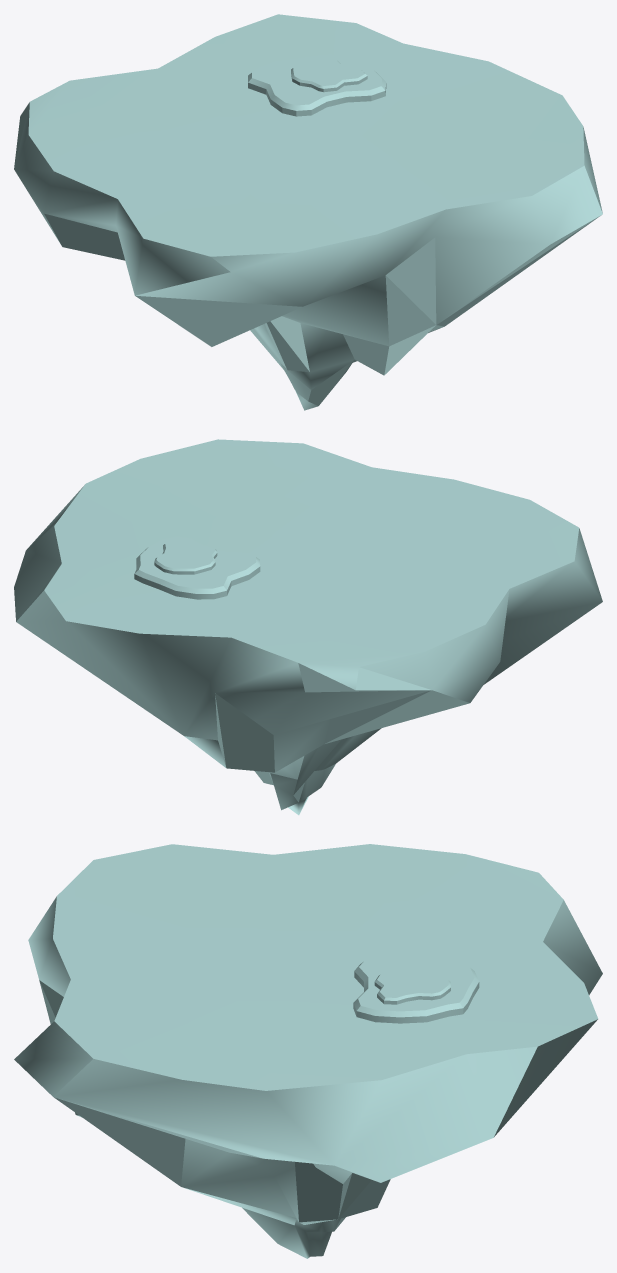
The model's file is Iceberg_01.fbx.
3 views of the same model, one above another, from view 1: azimuth 30°, elevation 25°; view 2: azimuth 150°, elevation 25°; view 3: azimuth 270°, elevation 25° (orthographic). The views are drawn at different scales.
Visible parts, largest first — view 1: ilot1; view 2: ilot1; view 3: ilot1.
Part boxes in pixels (x1,y1,x2,y2): ilot1: (14, 14, 602, 410); ilot1: (14, 439, 602, 815); ilot1: (14, 844, 602, 1258).
Size of the model in its own units: 147 by 78.89 by 135.
